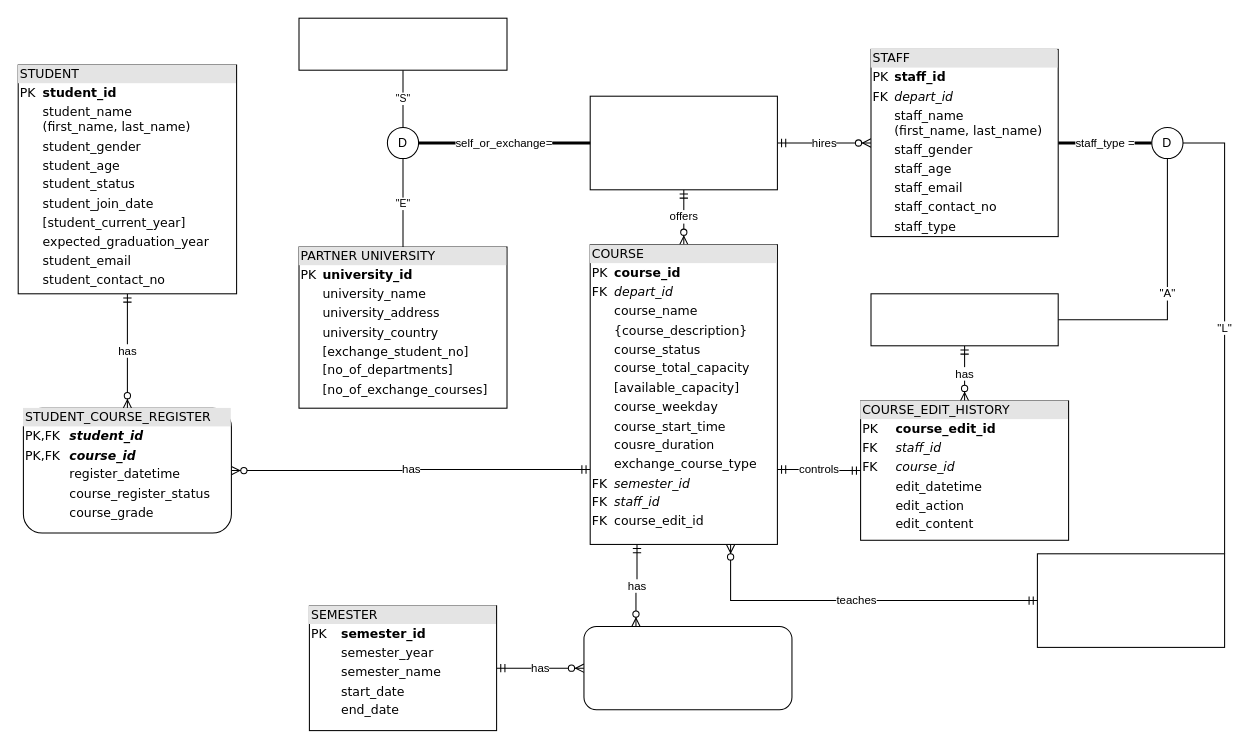
This 1250x749 diagram has some shape labels left out. Each missing label, with the centre of its shape:
"ADMIN_STAFF {admin_job_duty}" belongs at (x=964, y=319).
"COURSE_SEMESTER_REGISTER PK,FK course_id PK,FK semester_id datetime" belongs at (x=687, y=668).
"DEPARTMENT PK depart_id self_or_exchange depart_name" belongs at (x=683, y=142).
"LECTURER {focus_area} year_of_lecture_experience" belongs at (x=1130, y=600).
"UNIVERSITY university_name" belongs at (x=402, y=43).
